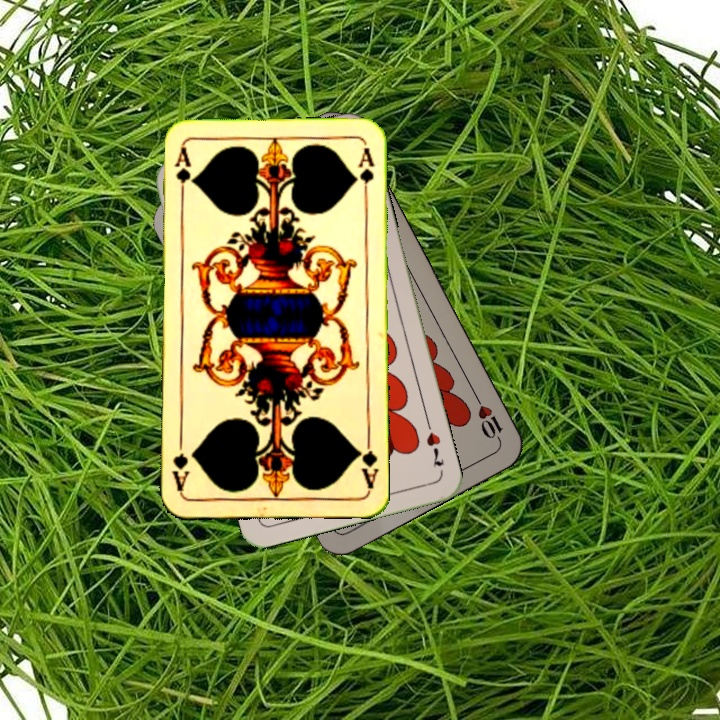GA: (353, 432, 380, 491), (170, 143, 193, 202)
H10: (470, 389, 506, 444)
H7: (422, 417, 447, 469)
